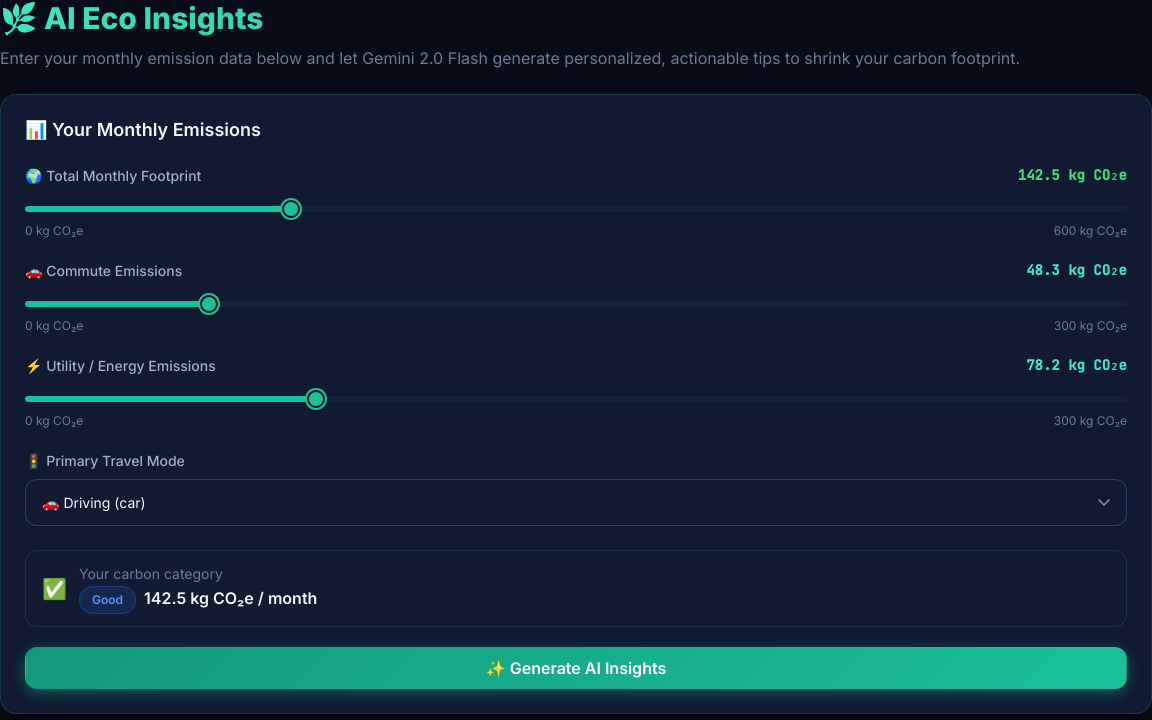
InsightsPage › shows cached badge when response is cached
Click the button named "Generate personalized eco insights". click: (576, 668)
box: top-left (25, 647), bottom-right (1127, 689)
(page scrolled)
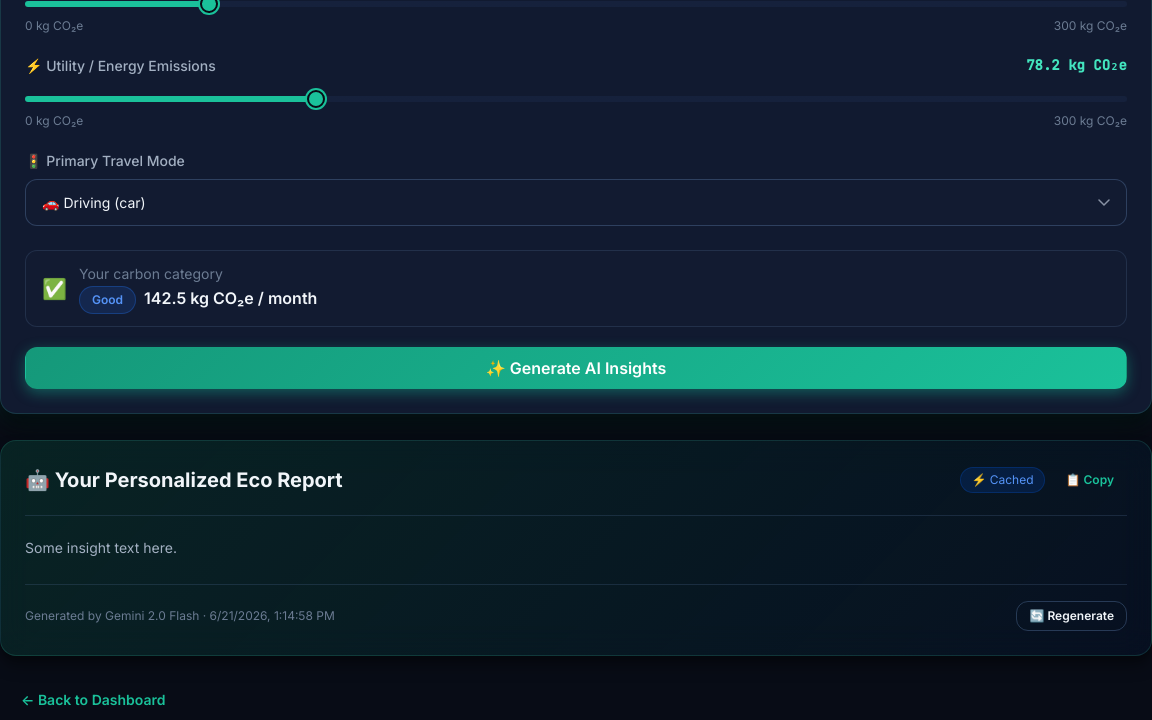
Now the text "⚡ Cached" is shown, box top-left (960, 467), bottom-right (1045, 493)
